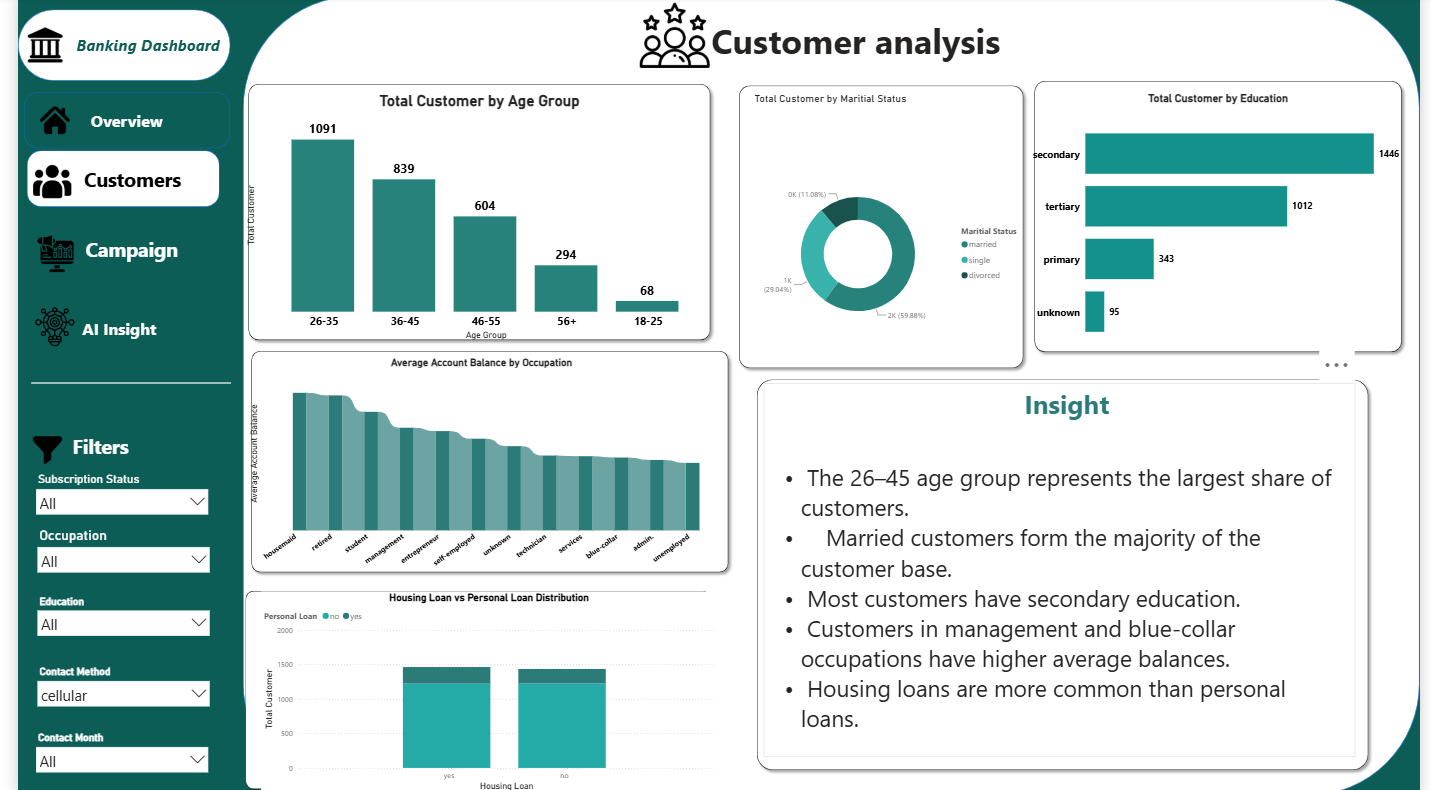

What the dashboard file says about the page in this screenshot:
{"tool":"powerbi","page":{"name":"Customer","canvas":[2300,1310],"ordinal":1},"visuals":[{"type":"shape","box":[13.6,253,315.6,92.5],"z":0},{"type":"shape","box":[370,0,1929.1,1311.4],"z":1000},{"type":"shape","box":[0,21.8,348.3,117],"z":2000},{"type":"image","box":[0,51.7,89.8,57.1],"z":3000},{"type":"shape","box":[10.9,157.8,337.4,92.5],"z":4000},{"type":"image","box":[32.7,179.6,57.1,49],"z":5000},{"type":"textbox","box":[19,272.1,318.3,81.6],"z":6000},{"type":"image","box":[21.8,272.1,68,62.6],"z":7000},{"type":"textbox","box":[22.1,388.6,319.7,88.5],"z":10000},{"type":"image","box":[22.1,388.6,78.7,66.4],"z":11000},{"type":"textbox","box":[17.2,521.4,305,91],"z":14000},{"type":"image","box":[27.1,491.9,66.4,100.8],"z":15000},{"type":"actionButton","box":[98,283,185,51.7],"z":16000},{"type":"actionButton","box":[100.8,398.4,186.9,51.6],"z":18000},{"type":"actionButton","box":[87.1,179.6,185,51.7],"z":19000},{"type":"actionButton","box":[32,504.2,245.9,78.7],"z":20000},{"type":"image","box":[19,710.1,57.1,65.3],"z":22000},{"type":"textbox","box":[46.3,710.1,176.9,54.4],"z":23000},{"type":"shape","box":[22.1,573,327.1,123],"z":24000},{"type":"slicer","fields":{"Values":["test.Subscription Status"]},"box":[19,775.4,302,89.8],"z":25000},{"type":"slicer","fields":{"Values":["test.Occupation"]},"box":[21.8,865.2,302,89.8],"z":26000},{"type":"slicer","fields":{"Values":["test.Contact Method"]},"box":[21.8,1091.1,302,89.8],"z":27000},{"type":"slicer","fields":{"Values":["test.Education"]},"box":[21.8,976.8,302,89.8],"z":28000},{"type":"slicer","fields":{"Values":["test.Contact Month"]},"box":[19,1199.9,302,89.8],"z":29000},{"type":"textbox","box":[620.4,29.9,1507.3,149.6],"z":30000},{"type":"image","box":[1004,8.2,146.9,114.3],"z":31000},{"type":"shape","box":[364.6,965.9,780.9,342.8],"z":32000},{"type":"shape","box":[370,136,775.4,438.1],"z":33000},{"type":"shape","box":[1172.7,138.8,484.3,481.6],"z":34000},{"type":"shape","box":[1202.6,620.4,1020.3,658.4],"z":35000},{"type":"columnChart","fields":{"Category":["test.Age Group"],"Y":["test.Total Customer"]},"box":[370,157.8,775.4,410.8],"z":36000},{"type":"donutChart","fields":{"Y":["test.Total Customer"],"Category":["test.Maritial Status"]},"box":[1202.6,157.8,454.4,511.5],"z":37000},{"type":"shape","box":[1657,130.6,620.4,462.5],"z":38000},{"type":"clusteredBarChart","fields":{"Category":["test.Education"],"Y":["test.Total Customer"]},"box":[1657,157.8,620.4,435.3],"z":39000},{"type":"shape","box":[372.8,574.1,799.9,380.9],"z":40000},{"type":"ribbonChart","fields":{"Category":["test.Occupation"],"Y":["test.Average Account Balance"]},"box":[372.8,590.4,772.7,364.6],"z":41000},{"type":"columnChart","title":"Housing Loan vs Personal Loan Distribution","fields":{"Category":["test.Housing Loan"],"Y":["test.Total Customer"],"Series":["test.Personal Loan"]},"box":[397.2,976.8,748.2,331.9],"z":42000},{"type":"textbox","box":[1221.7,634,971.3,612.2],"z":43000}]}

Visuals, with their boxes on the page's 2300x1310 design canvas (x1, y1, x2, y2). These are canvas units, not pixel positions in the 1431x790 screenshot, which may show the page scaled, cropped or inside an application window:
shape: 14:253:329:346
shape: 370:0:2299:1311
shape: 0:22:348:139
image: 0:52:90:109
shape: 11:158:348:250
image: 33:180:90:229
textbox: 19:272:337:354
image: 22:272:90:335
textbox: 22:389:342:477
image: 22:389:101:455
textbox: 17:521:322:612
image: 27:492:94:593
actionButton: 98:283:283:335
actionButton: 101:398:288:450
actionButton: 87:180:272:231
actionButton: 32:504:278:583
image: 19:710:76:775
textbox: 46:710:223:764
shape: 22:573:349:696
slicer - test.Subscription Status: 19:775:321:865
slicer - test.Occupation: 22:865:324:955
slicer - test.Contact Method: 22:1091:324:1181
slicer - test.Education: 22:977:324:1067
slicer - test.Contact Month: 19:1200:321:1290
textbox: 620:30:2128:180
image: 1004:8:1151:122
shape: 365:966:1146:1309
shape: 370:136:1145:574
shape: 1173:139:1657:620
shape: 1203:620:2223:1279
columnChart - test.Age Group x test.Total Customer: 370:158:1145:569
donutChart - test.Total Customer x test.Maritial Status: 1203:158:1657:669
shape: 1657:131:2277:593
clusteredBarChart - test.Education x test.Total Customer: 1657:158:2277:593
shape: 373:574:1173:955
ribbonChart - test.Occupation x test.Average Account Balance: 373:590:1146:955
"Housing Loan vs Personal Loan Distribution" columnChart: 397:977:1145:1309
textbox: 1222:634:2193:1246
